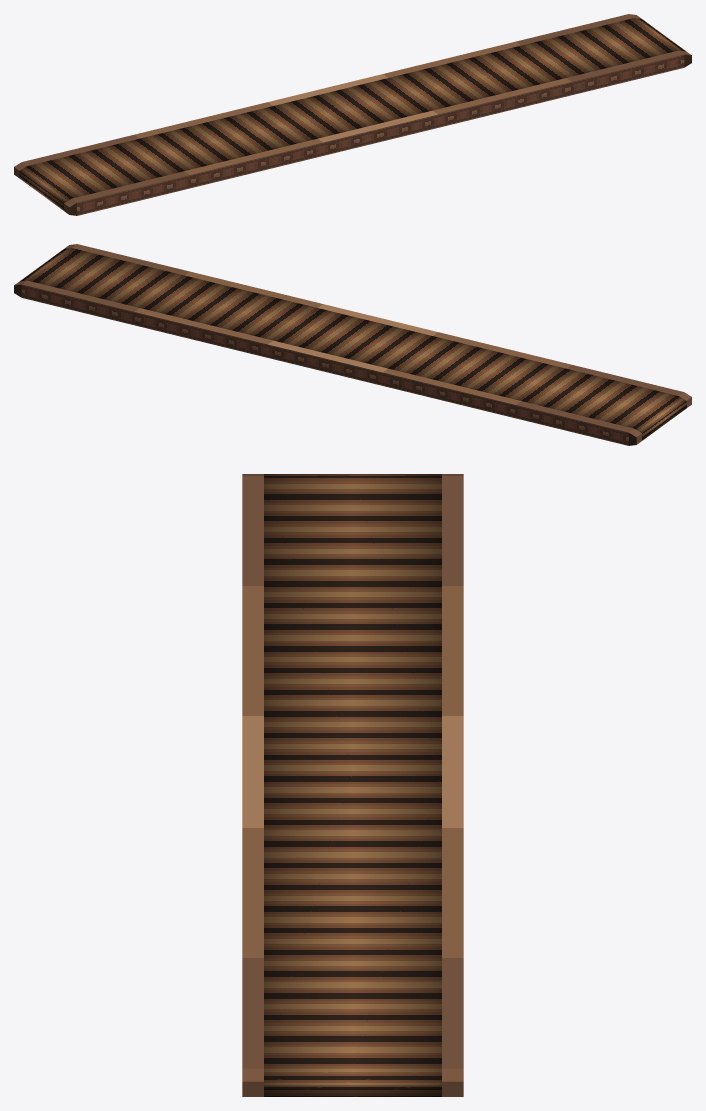
Rendered from ConveyerLarge.glb.
The picture shows the model from 3 angles, top to bottom: view 1: azimuth 30°, elevation 25°; view 2: azimuth 150°, elevation 25°; view 3: azimuth 270°, elevation 25°; orthographic projection. The views are drawn at different scales.
Parts seen in each view (by area): view 1: Belt_M; view 2: Belt_M; view 3: Belt_M.
Boxes of the visible parts, x1,y1,x2,y2 form: Belt_M: (14, 14, 691, 215); Belt_M: (14, 244, 691, 445); Belt_M: (242, 474, 463, 1096).
Size of the model in its own units: 9.74 by 0.2 by 1.5.
3 materials, 3 textured.
